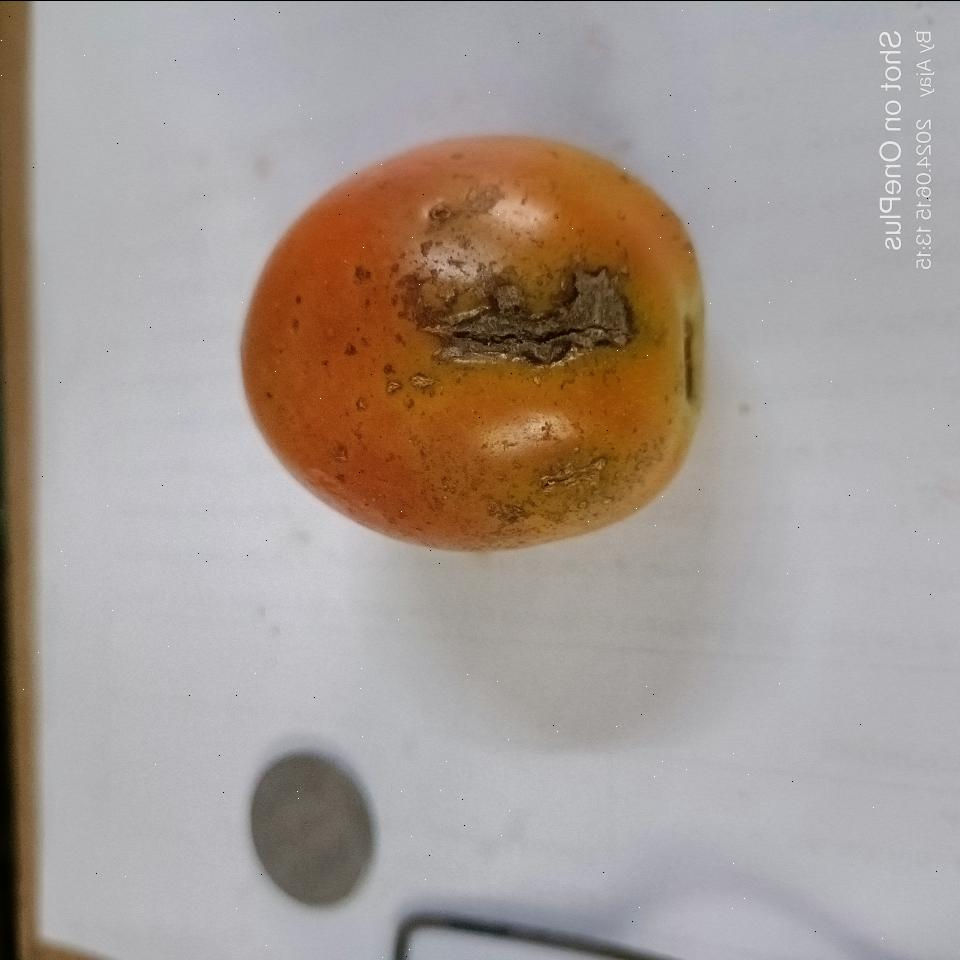Bacterial_Spot: (397, 253, 631, 361)
